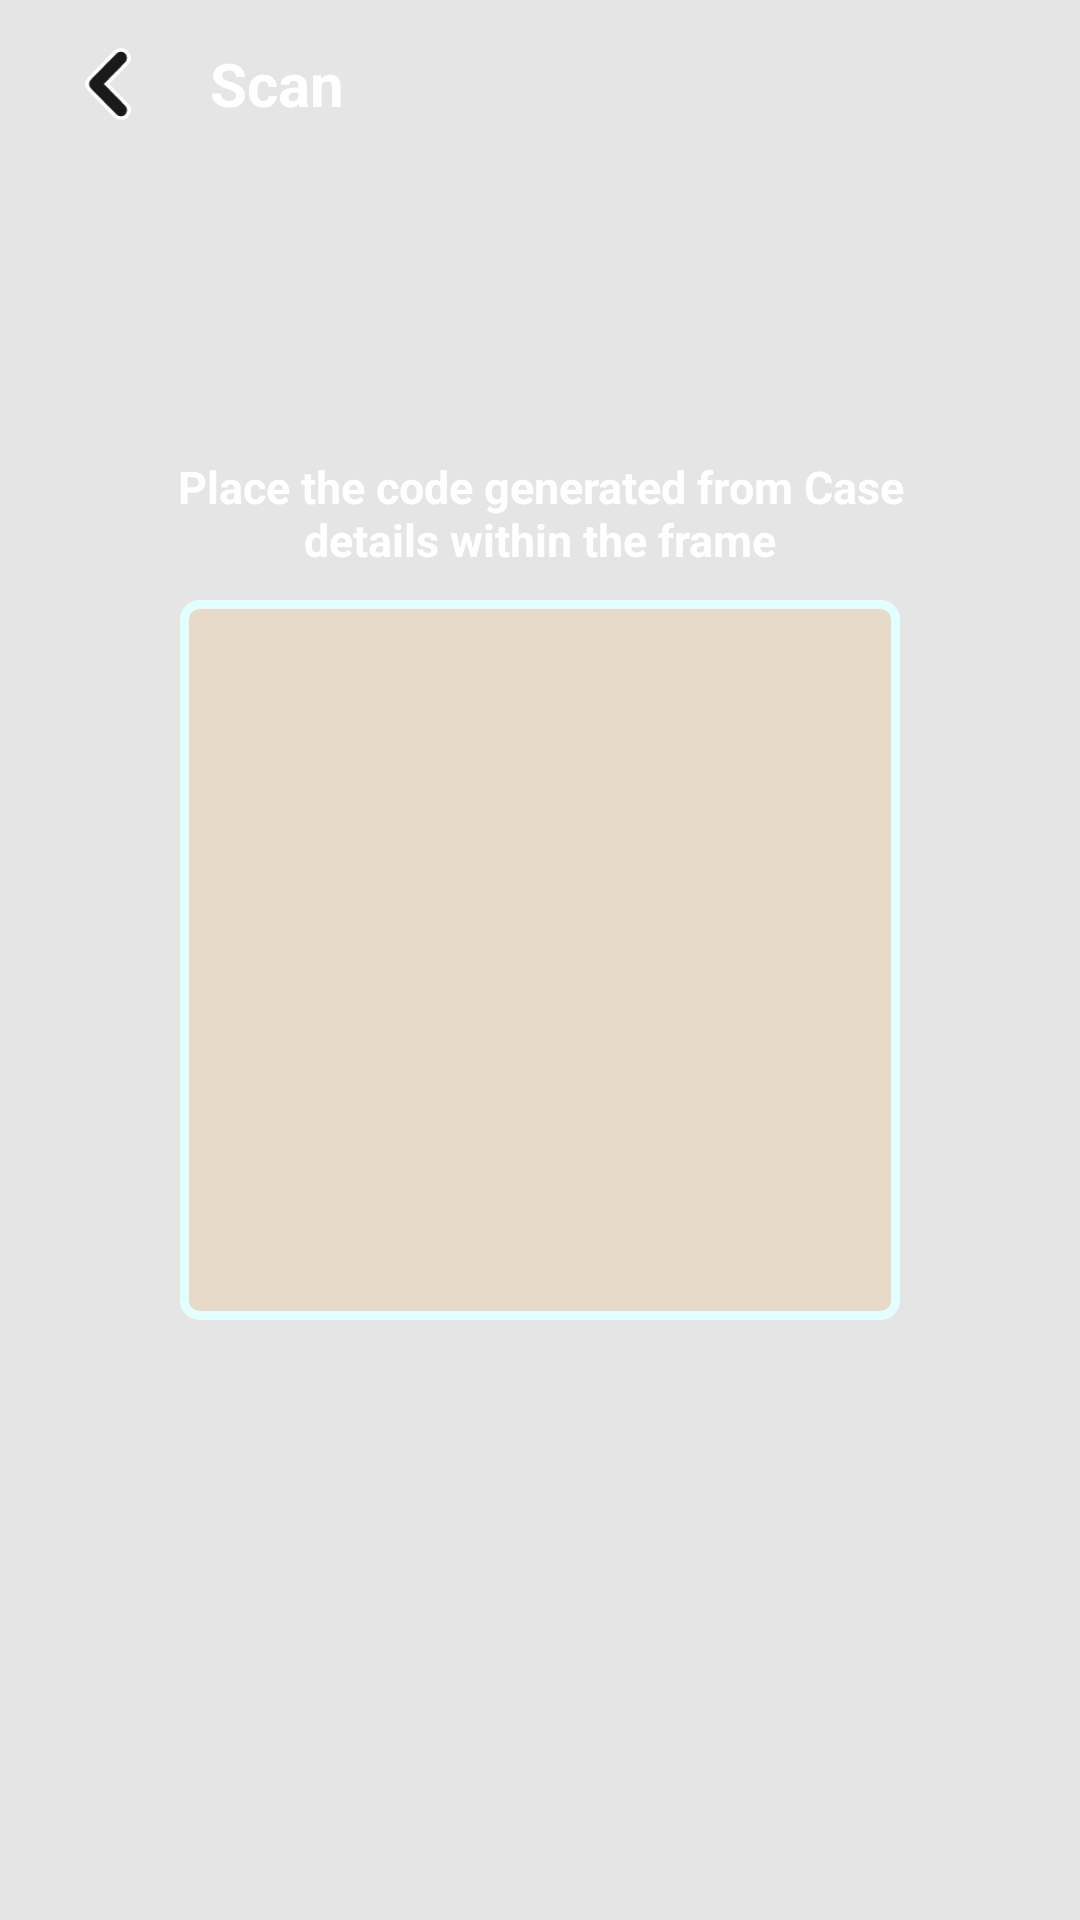

Named icons in this screenshot (1080px×1920px) and their centers, (x=x, y=y):
back: (x=108, y=84)
